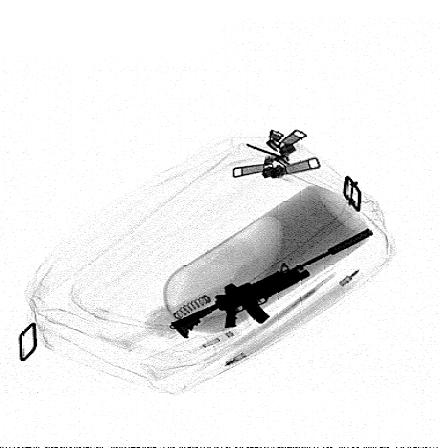Gun: (172, 228, 374, 339)
